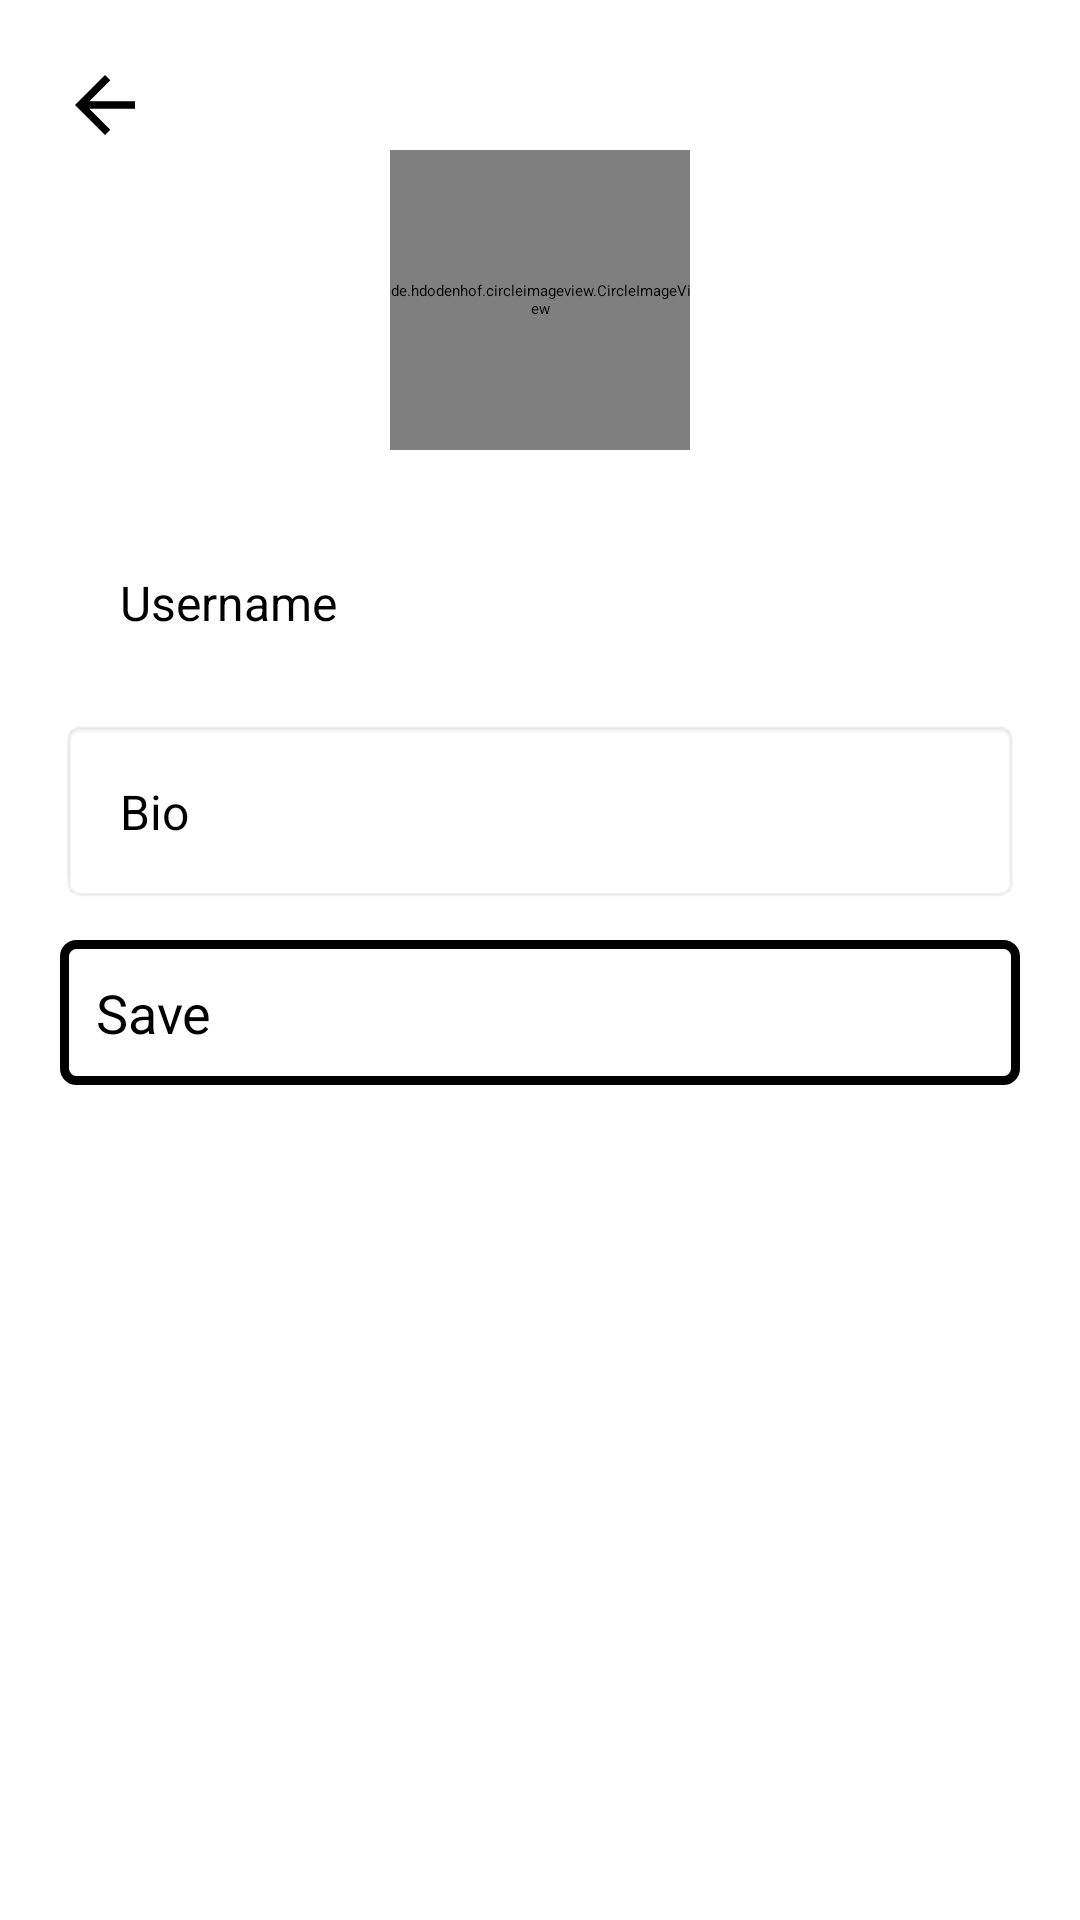

Screen size 1080 x 1920. Icon name, then its center in pixels as (x,y):
arrow back: (105,105)
